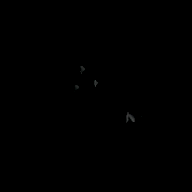v: (71, 64, 98, 89)
